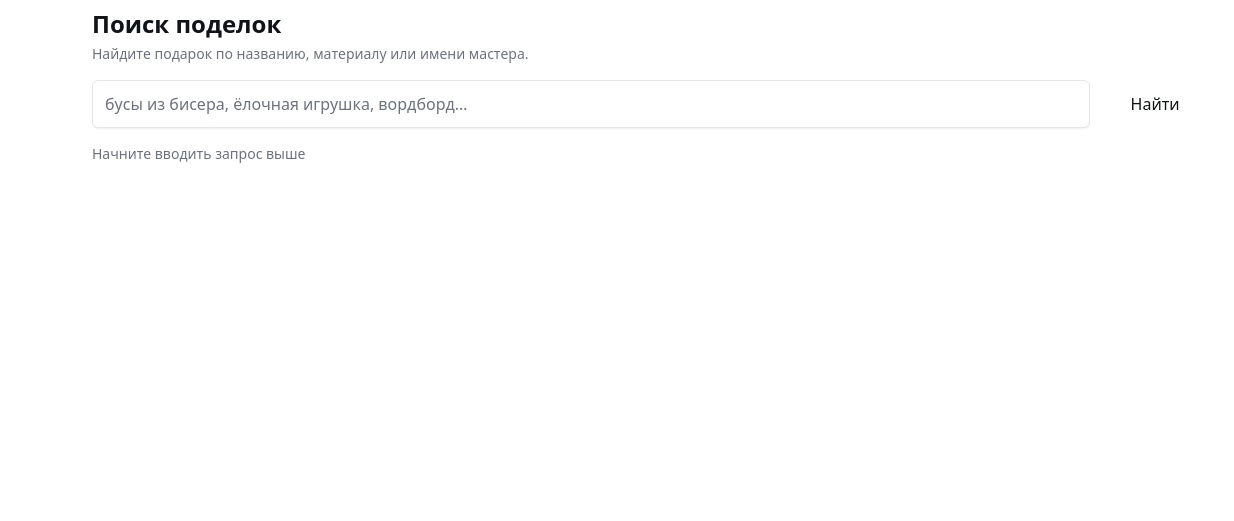
Test case: SearchPage › отправка запроса пишет его в URL единственным механизмом
Step 1. Type "бусы" into the dropdown named "Поиск по каталогу" → [591, 104], box [92,80,1090,128]
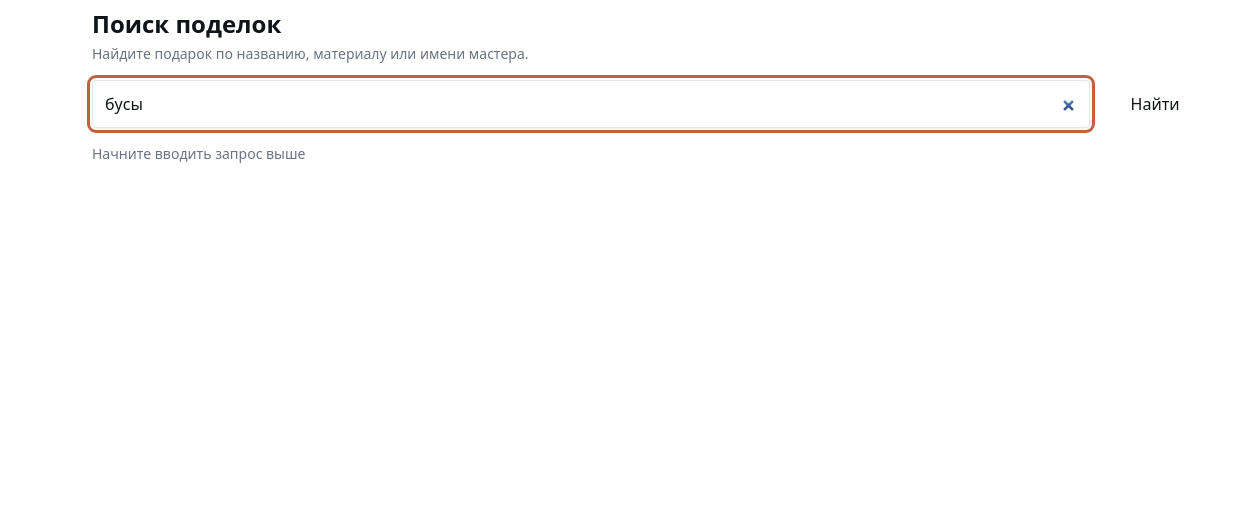
Step 2. Click the button "Найти" → [1155, 104], box [1098,80,1212,128]
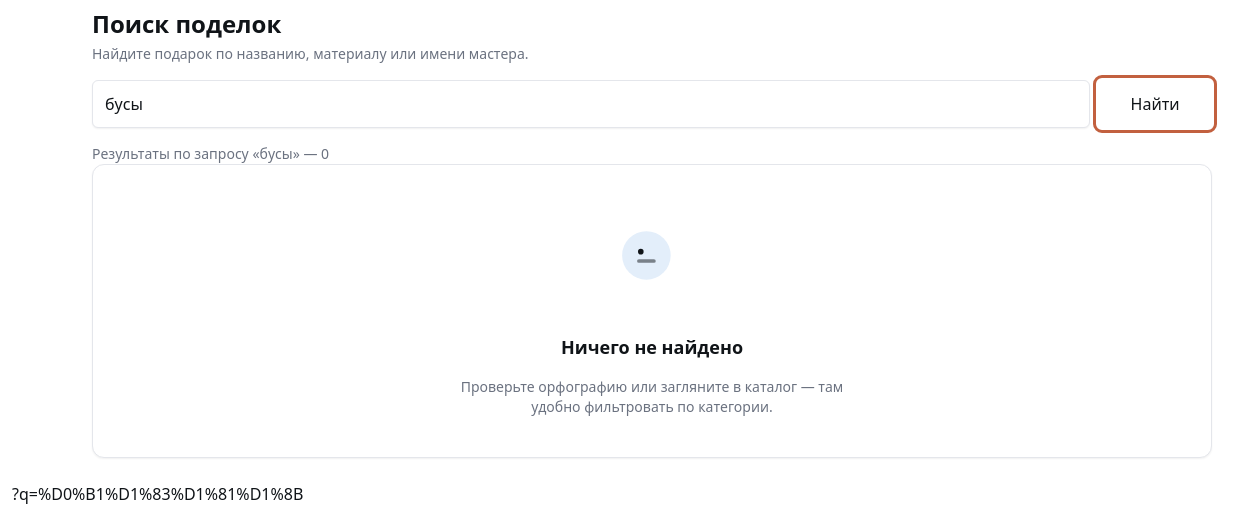
Expected: the text "Результаты по запросу «бусы» — 0" is shown, [92,144,329,163]
